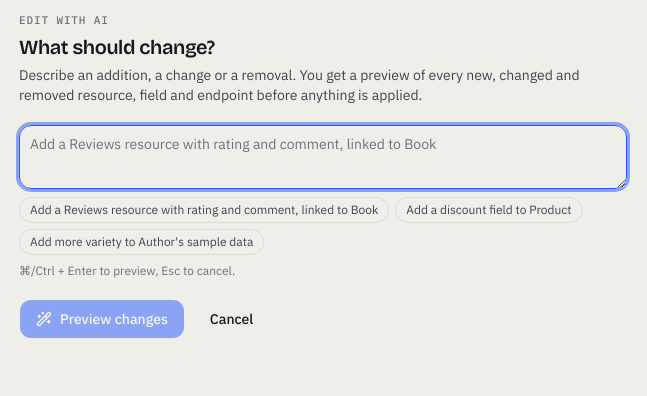
Test: labels the button 'Update the API' and disables it when there is nothing to change
The width and height of the screenshot is (647, 396).
Step 1. Type "Do nothing in particular" into the text box named "Describe what should change" → (323, 156), box [19, 124, 627, 188]
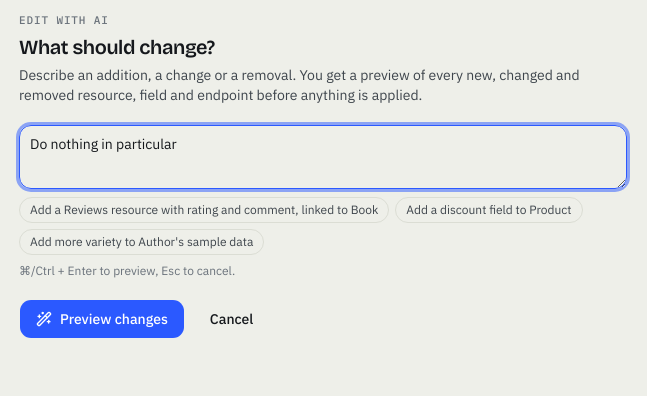
Step 2. Click the button "Preview changes" → (102, 318), box [19, 298, 185, 338]
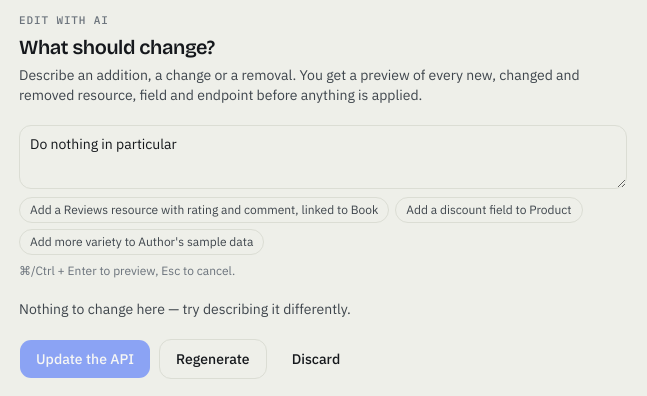
Check: the text "Nothing to change here — try describing it differently." is shown, box [19, 300, 351, 318]
Check: the button "Update the API" is disabled, box [19, 338, 151, 378]
